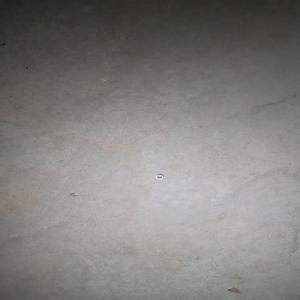Nut: (154, 173, 164, 179)
